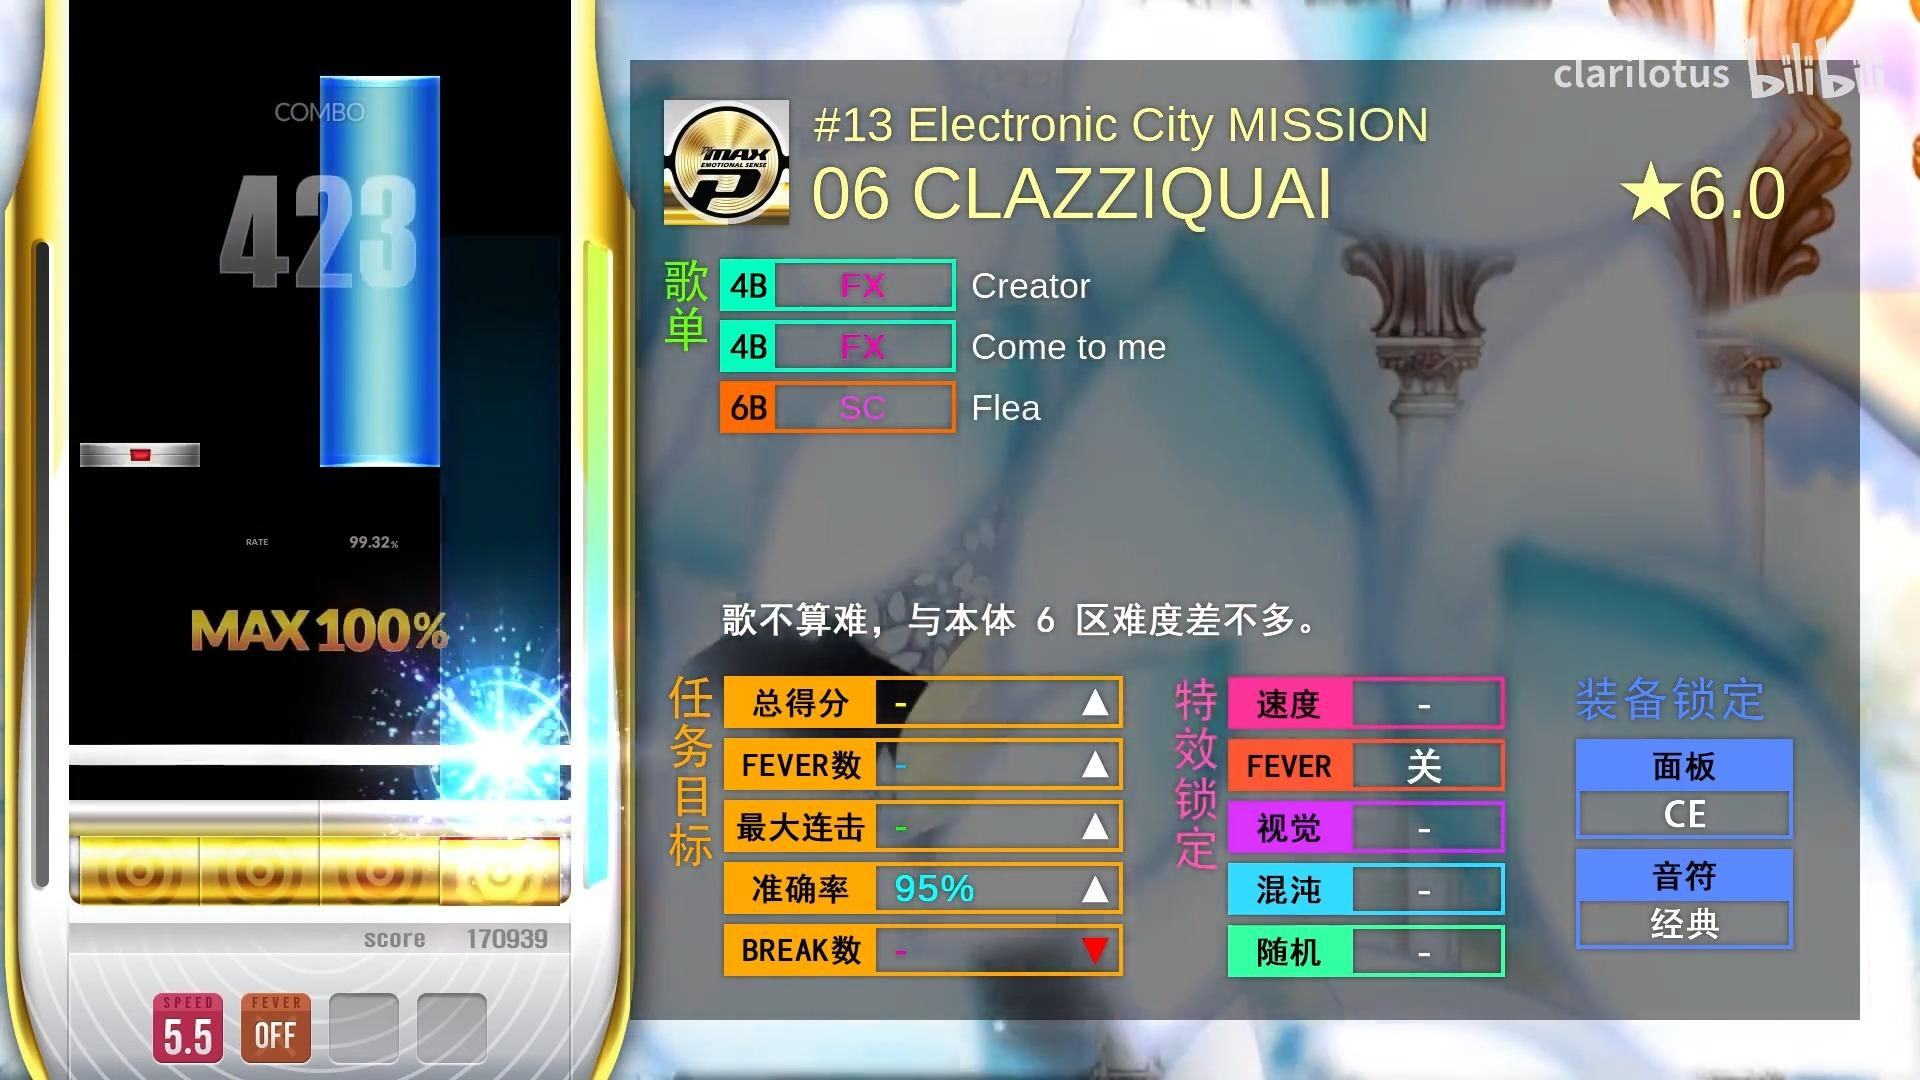hold-end: (319, 75, 440, 100)
hold-start: (319, 440, 442, 467)
note: (79, 442, 199, 468)
